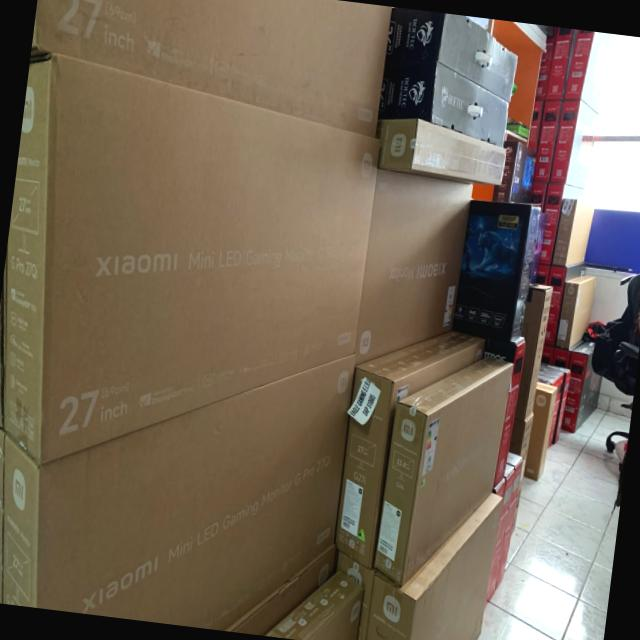caja-monitor: (3, 53, 381, 462), (2, 354, 356, 630), (32, 0, 392, 136), (335, 330, 485, 570), (373, 356, 513, 586), (354, 168, 472, 366), (367, 492, 503, 640), (452, 199, 541, 341), (384, 8, 517, 102), (377, 61, 509, 148), (224, 544, 334, 635), (377, 118, 505, 186), (264, 570, 364, 640), (482, 336, 525, 488), (514, 282, 553, 420), (549, 100, 598, 189), (564, 29, 614, 114), (560, 341, 602, 433), (540, 182, 586, 264), (495, 452, 522, 591), (487, 464, 514, 603), (543, 261, 586, 345), (524, 381, 557, 481), (336, 551, 373, 640), (555, 275, 597, 349), (509, 413, 533, 533), (492, 140, 537, 204), (552, 199, 594, 266), (540, 362, 571, 444), (533, 101, 563, 182), (546, 27, 577, 99), (539, 366, 564, 446), (535, 26, 557, 99), (552, 340, 584, 368), (528, 100, 543, 150), (530, 181, 547, 213), (536, 263, 550, 285), (541, 345, 554, 365), (492, 478, 505, 496)
